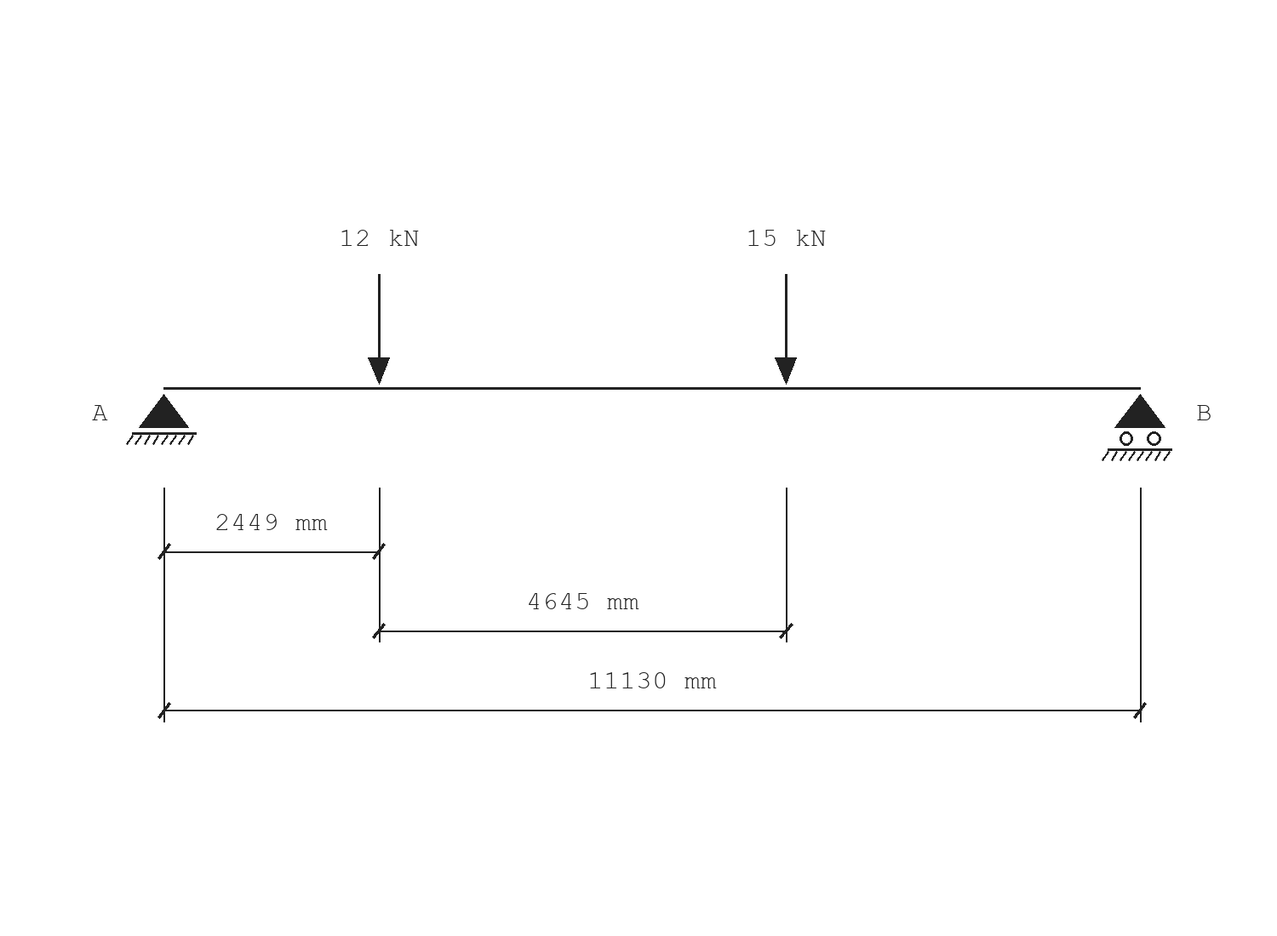pin_support: (126, 394, 197, 445)
point_load: (368, 274, 390, 385), (775, 274, 797, 385)
roller_support: (1102, 394, 1172, 461)
